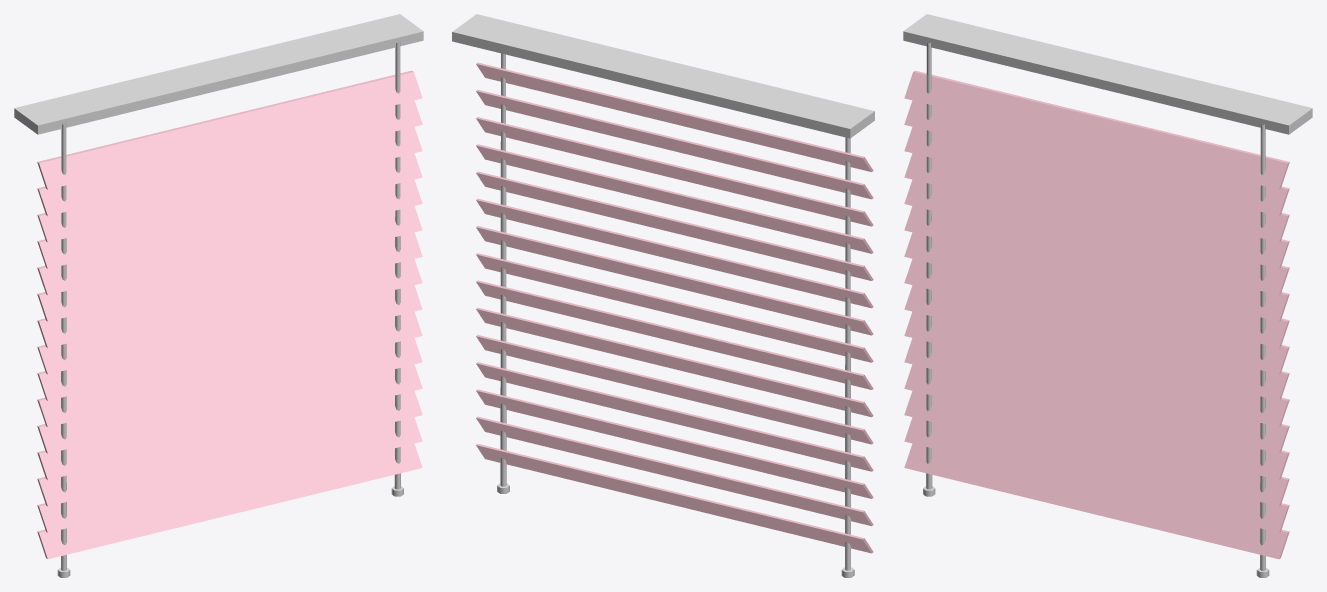
File: blind_K.fbx
The picture shows the model from 3 angles, left to right: view 1: azimuth 30°, elevation 25°; view 2: azimuth 150°, elevation 25°; view 3: azimuth 330°, elevation 25°; orthographic projection. The views are drawn at different scales.
Parts seen in each view (by area): view 1: polySurface5.001, polySurface20, polySurface18; view 2: polySurface5.001, polySurface20, polySurface18; view 3: polySurface5.001, polySurface20, polySurface18.
Boxes of the visible parts, <box> form: polySurface5.001: <box>37,70,422,559</box>; polySurface20: <box>14,14,423,134</box>; polySurface18: <box>61,42,400,570</box>; polySurface5.001: <box>476,62,873,553</box>; polySurface20: <box>452,14,874,138</box>; polySurface18: <box>500,53,850,570</box>; polySurface5.001: <box>904,70,1289,559</box>; polySurface20: <box>903,14,1312,134</box>; polySurface18: <box>926,42,1265,570</box>.
Bounding box in the file's own units: 120 × 136 × 15.24.
